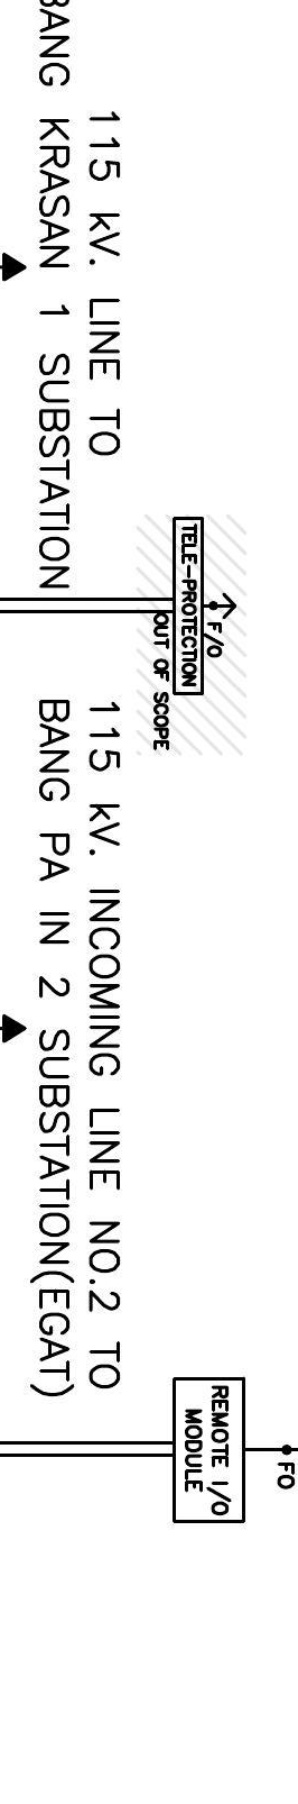remote_io_module: (173, 1376, 246, 1523)
tele_protection: (171, 517, 205, 696)
